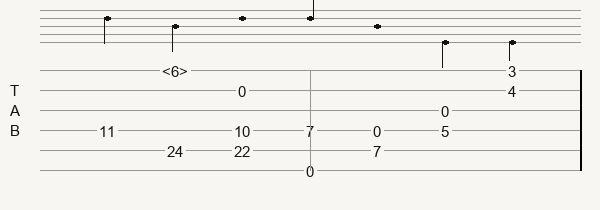0: (238, 83, 250, 98), (306, 163, 318, 178), (373, 123, 385, 138), (441, 103, 453, 118)
10: (234, 123, 254, 138)
11: (99, 123, 119, 138)
22: (234, 143, 254, 158)
24: (167, 143, 187, 158)
3: (508, 63, 520, 78)
4: (508, 83, 520, 98)
5: (441, 123, 453, 138)
7: (306, 123, 318, 138), (373, 143, 385, 158)
harmonic: (162, 63, 192, 78)
